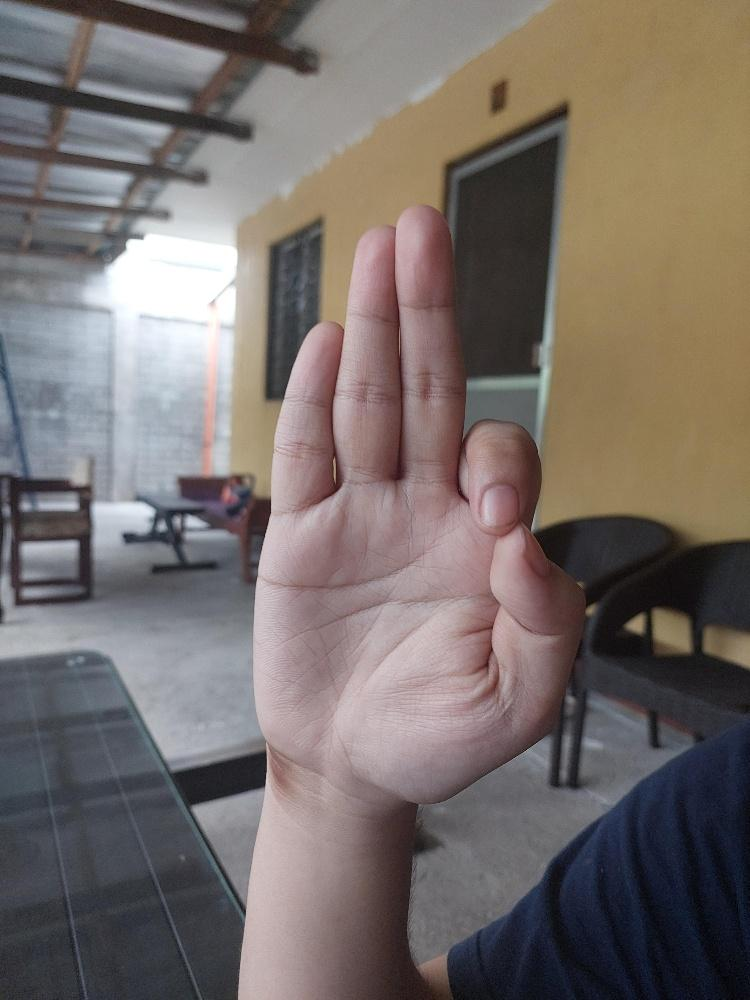f: (249, 199, 588, 808)
